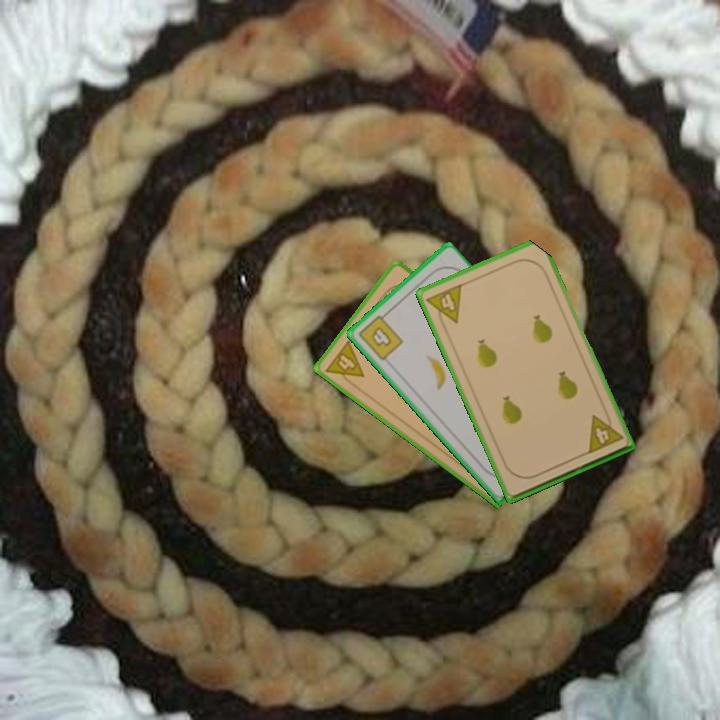4b: (354, 308, 406, 364)
4p: (321, 336, 367, 391), (583, 407, 626, 457), (423, 280, 465, 331)
